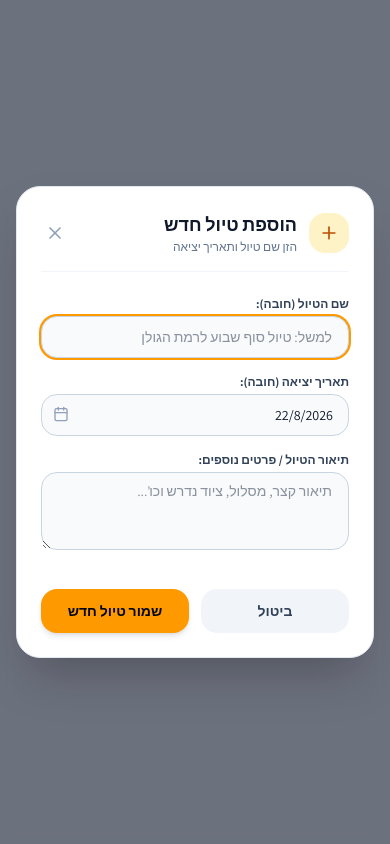
Test case: TourModal › blocks submit and shows an inline error (not a toast) when title is empty
The width and height of the screenshot is (390, 844).
Click the button "שמור טיול חדש" at [115, 611], box [41,589,189,633]
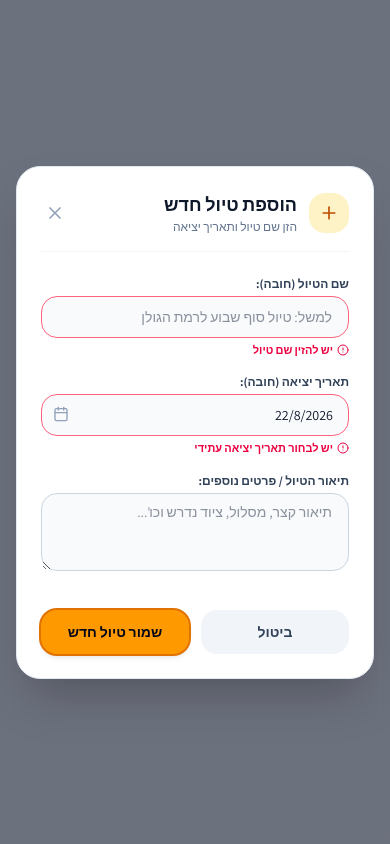
Result: the text "יש להזין שם טיול" is shown at [253,342,333,358]
